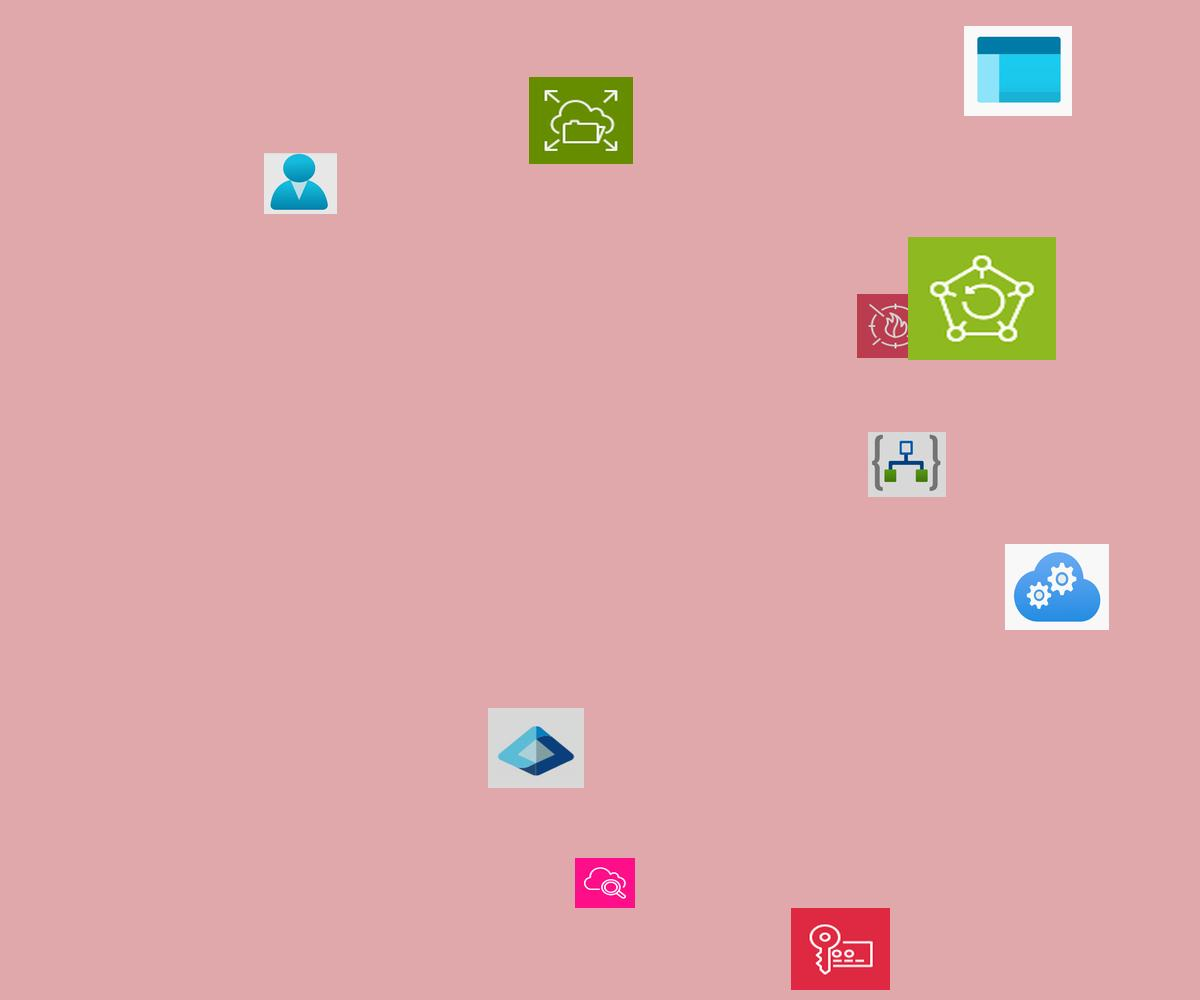AWS-Backup: (908, 237, 1056, 360)
AWS-CloudWatch: (575, 858, 635, 908)
AWS-EFS: (529, 77, 633, 164)
AWS-Key-Management-Service: (791, 908, 890, 990)
AWS-WAF: (857, 294, 934, 358)
Azure_cloud_services: (1005, 544, 1109, 630)
Azure_integration-204-Logic-Apps: (868, 432, 946, 497)
Azure_management-portal: (964, 26, 1072, 116)
Azure_microsoft_entra: (488, 708, 584, 788)
Azure_users: (264, 153, 337, 214)
